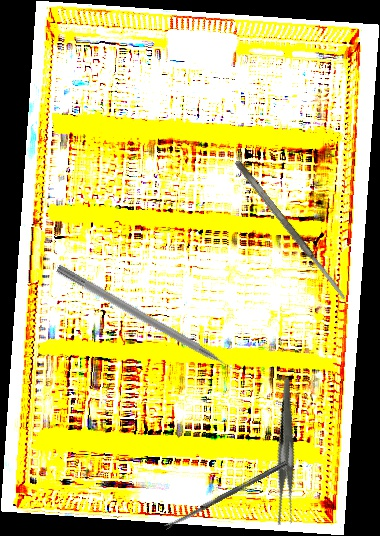Dressing Forceps: (239, 378, 336, 529)
Pusher: (54, 263, 248, 383)
Spatula Surgical: (233, 158, 349, 303)
Surgical Spoon: (163, 460, 288, 530)
